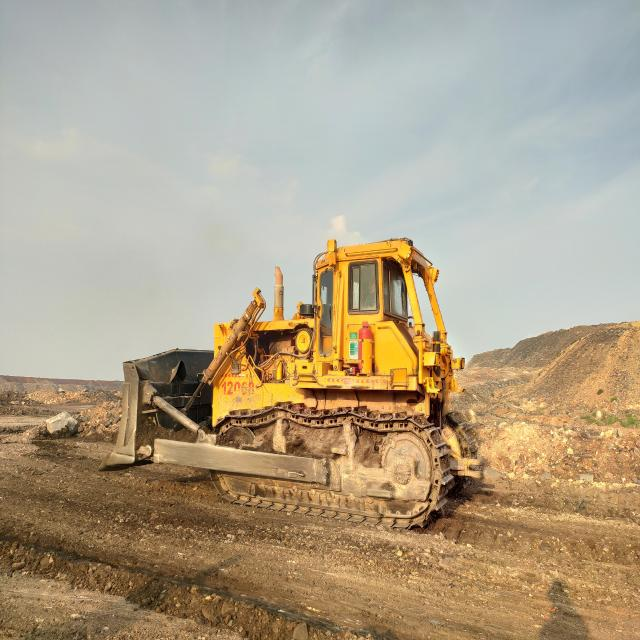buldozerpayloadergrader: (100, 238, 482, 528)
